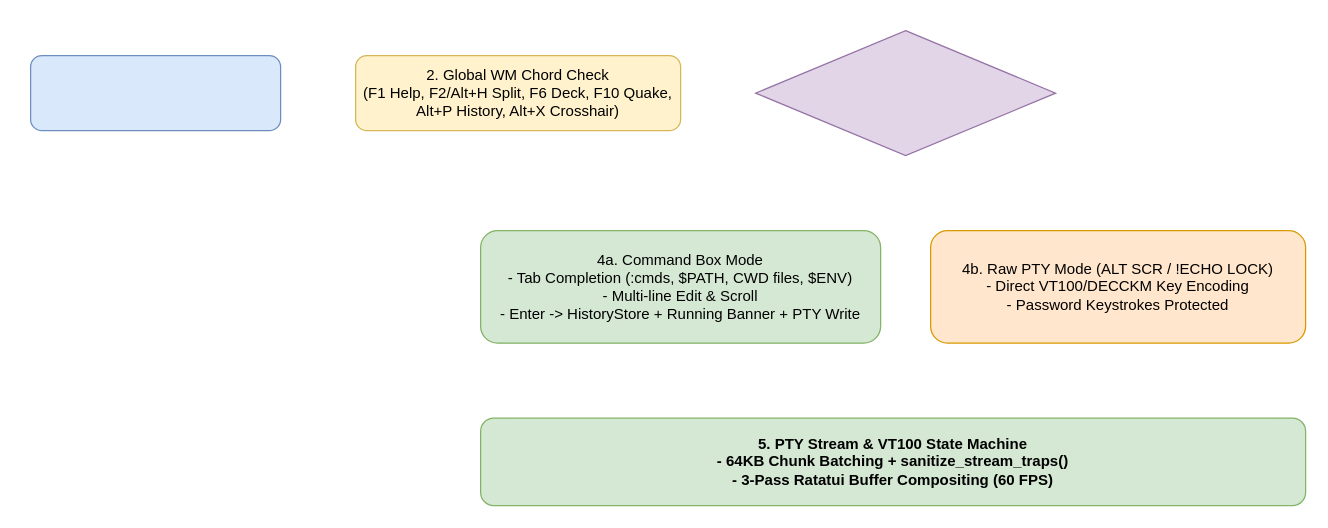
Image size: 1328x528. Some labels were removed from this diagram. Here are the shapes that lost their labels. From the top down, the centre of each, then its label:
At point 155,92: "1. User Input Event (Key / Mouse / Paste)".
At point 905,92: "3. 3-Signal Mode Routing INPUT: CMD BOX vs. INPUT: RAW PTY".
